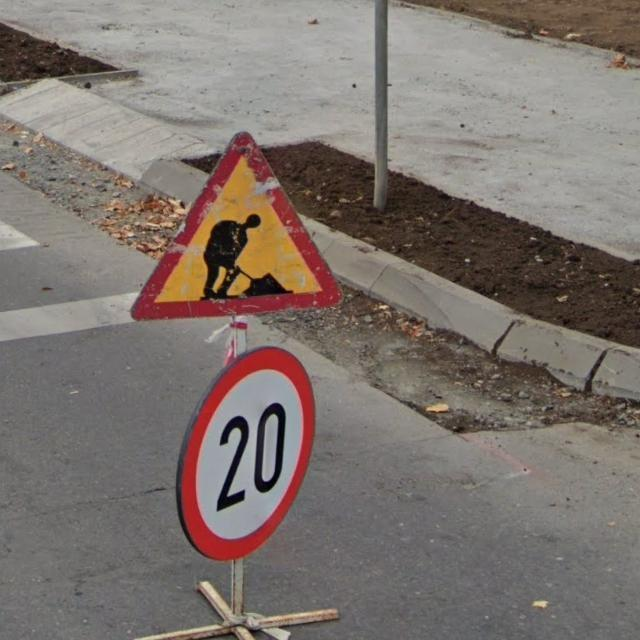forb_speed_over_20: (171, 345, 315, 563)
